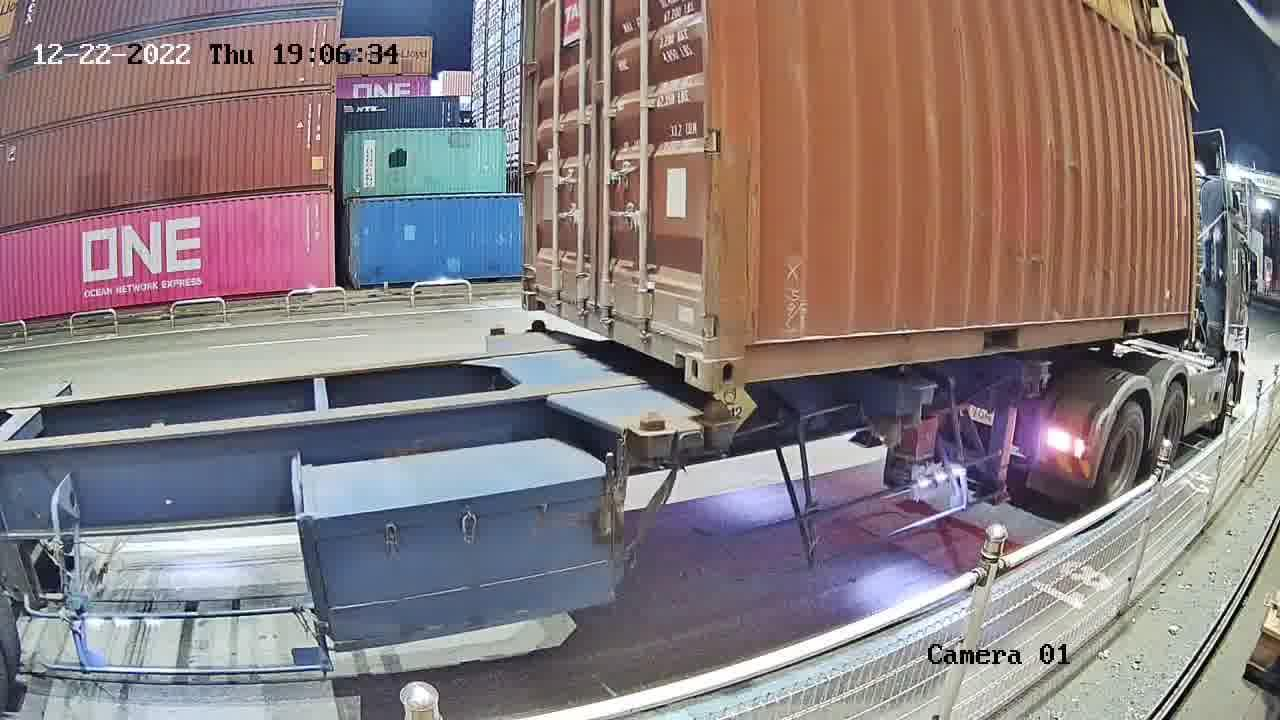Chassis: (482, 332, 677, 458), (529, 331, 736, 447)
Cone: (636, 408, 672, 456), (697, 403, 735, 448), (486, 323, 511, 340), (527, 318, 549, 334)
Hole_L: (710, 319, 776, 393), (518, 266, 552, 313)
Hole_R: (660, 308, 710, 395)
Tire: (1103, 404, 1145, 500), (1154, 386, 1188, 465)
